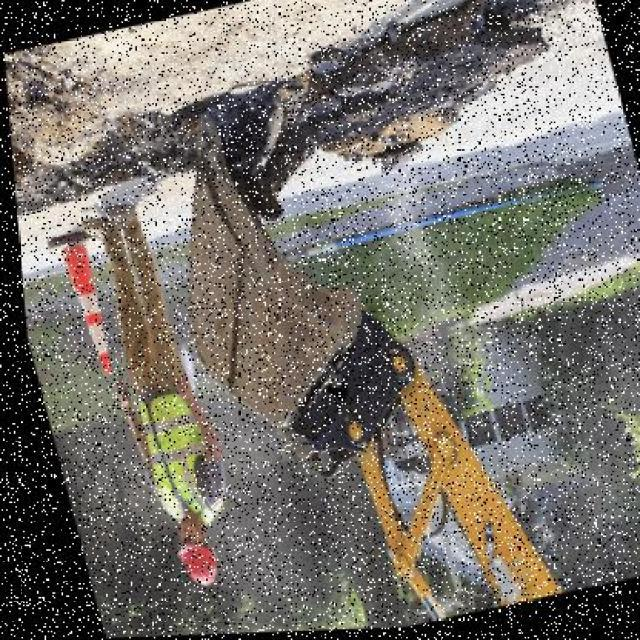helmet: (162, 534, 215, 594)
vest: (119, 388, 211, 529)
